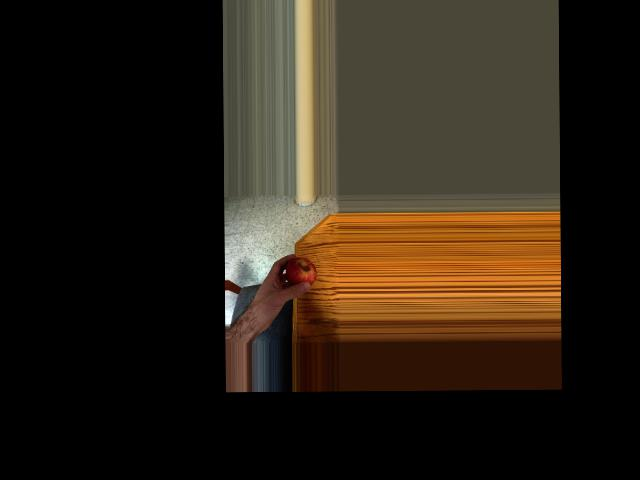apple: (284, 256, 315, 289)
